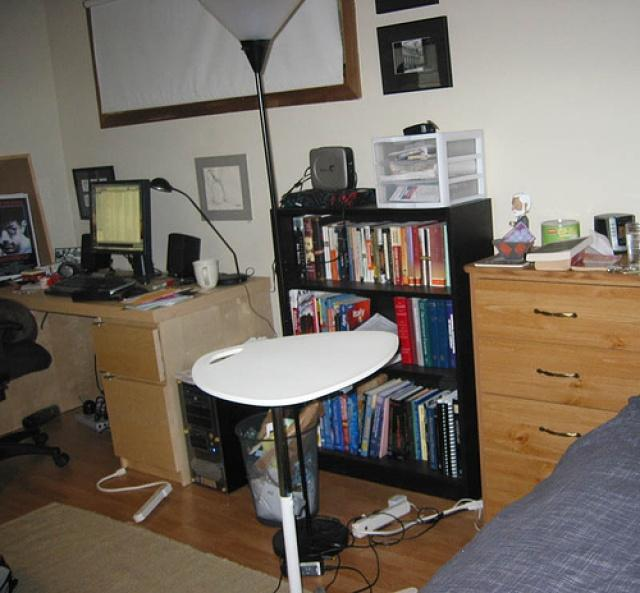Meja: (0, 267, 275, 382)
Rak: (267, 195, 495, 503)
